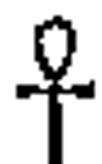Ankh: (11, 14, 101, 164)
